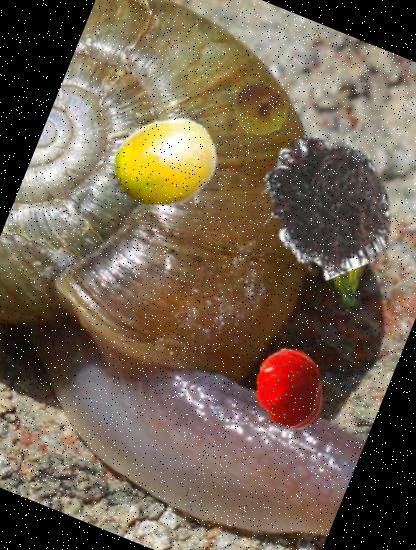Cactus: (290, 216, 400, 324)
Maracuja: (93, 92, 236, 235)
Peach: (224, 73, 297, 145)
Rambutan: (230, 112, 415, 298)
Tomato: (234, 335, 344, 444)
